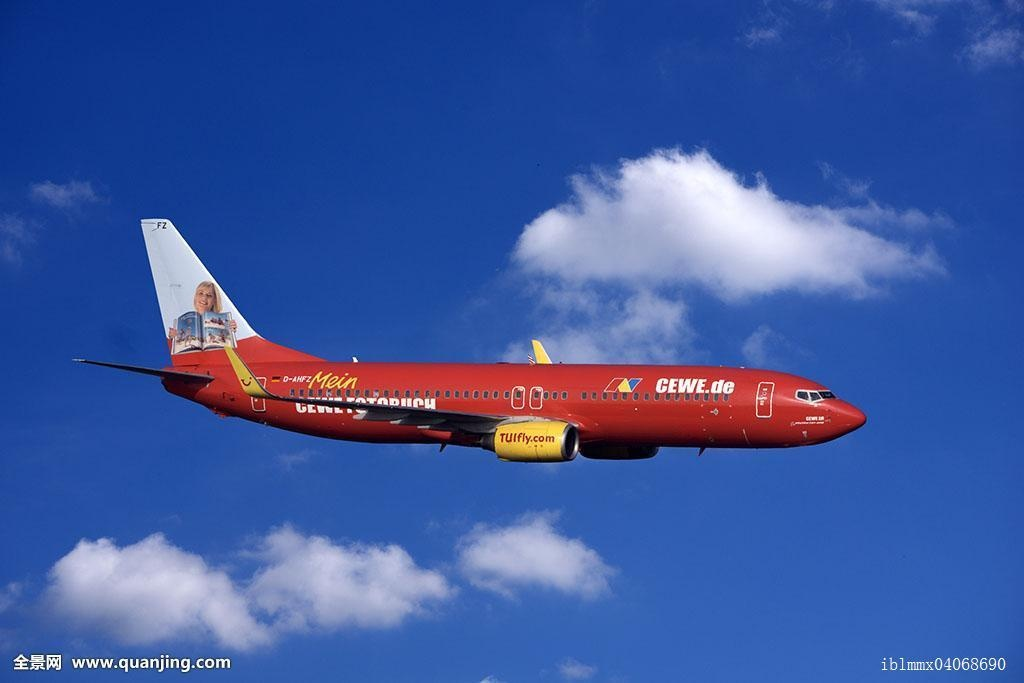airplane: (70, 212, 872, 468)
